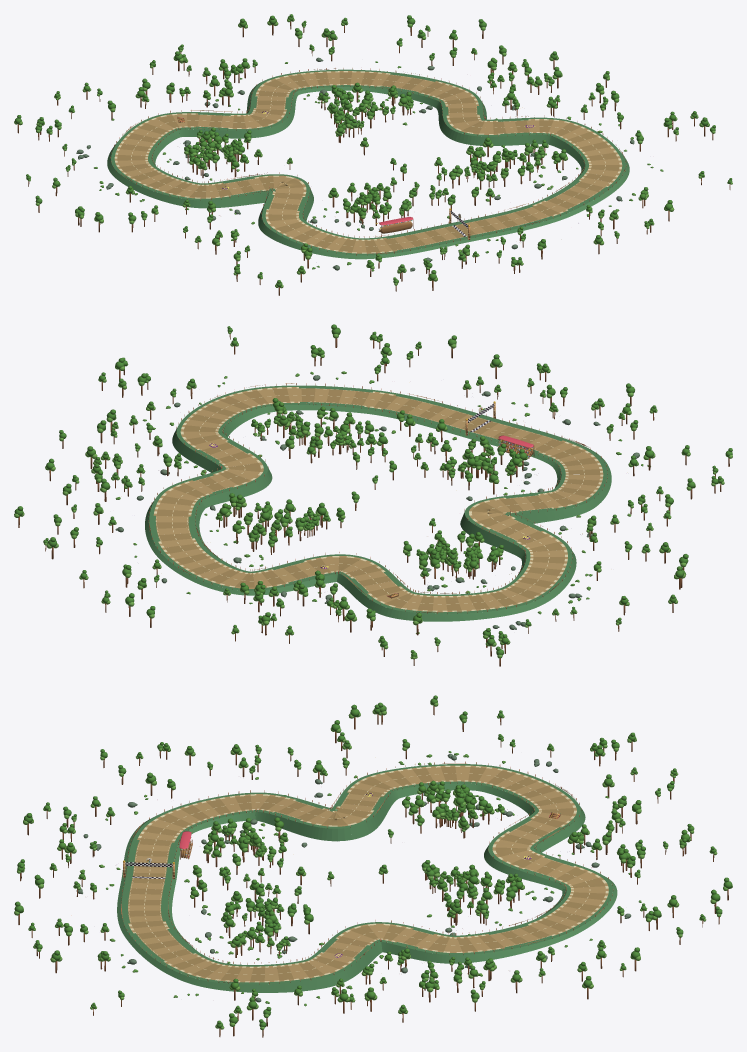
The model's file is carreras_bosque.glb.
The picture shows the model from 3 angles, top to bottom: view 1: azimuth 30°, elevation 25°; view 2: azimuth 150°, elevation 25°; view 3: azimuth 270°, elevation 25°; orthographic projection. The views are drawn at different scales.
Parts seen in each view (by area): view 1: bosque Tela | copa #4E8A3A 0 0, bosque Tela | copa #4E8A3A 0 -1, bosque Tela | copa #4E8A3A -1 0, bosque Tela | camino claro bosque -1 0, bosque Tela | camino bosque -1 0, bosque Tela | camino claro bosque 0 -1, bosque Tela | camino bosque 0 -1, bosque Tela | copa #4E8A3A -1 -1, bosque Tela | camino claro bosque 0 0, bosque Tela | camino bosque -1 -1, bosque Tela | camino claro bosque -1 -1, bosque Tela | camino bosque 0 0 (+18 smaller); view 2: bosque Tela | copa #4E8A3A 0 0, bosque Tela | copa #4E8A3A 0 -1, bosque Tela | camino claro bosque -1 0, bosque Tela | copa #4E8A3A -1 0, bosque Tela | camino bosque -1 0, bosque Tela | talud bosque -1 0, bosque Tela | copa #4E8A3A -1 -1, bosque Tela | camino claro bosque 0 -1, bosque Tela | camino bosque 0 -1, bosque Tela | camino claro bosque 0 0, bosque Tela | camino bosque 0 0, bosque Tela | camino claro bosque -1 -1 (+19 smaller); view 3: bosque Tela | copa #4E8A3A 0 0, bosque Tela | copa #4E8A3A 0 -1, bosque Tela | copa #4E8A3A -1 0, bosque Tela | camino claro bosque -1 0, bosque Tela | camino bosque -1 0, bosque Tela | copa #4E8A3A -1 -1, bosque Tela | camino claro bosque 0 -1, bosque Tela | camino bosque 0 -1, bosque Tela | camino claro bosque 0 0, bosque Tela | camino bosque 0 0, bosque Tela | talud bosque 0 0, bosque Tela | camino bosque -1 -1 (+18 smaller).
Boxes of the visible parts, x1,y1,x2,y2 form: bosque Tela | copa #4E8A3A 0 0: (239,14,609,146); bosque Tela | copa #4E8A3A 0 -1: (391,90,732,264); bosque Tela | copa #4E8A3A -1 0: (15,44,292,221); bosque Tela | camino claro bosque -1 0: (117,91,286,197); bosque Tela | camino bosque -1 0: (117,95,286,197); bosque Tela | camino claro bosque 0 -1: (455,120,619,236); bosque Tela | camino bosque 0 -1: (466,120,619,234); bosque Tela | copa #4E8A3A -1 -1: (128,177,517,287); bosque Tela | camino claro bosque 0 0: (259,72,503,133); bosque Tela | camino bosque -1 -1: (268,176,456,252); bosque Tela | camino claro bosque -1 -1: (268,176,464,252); bosque Tela | camino bosque 0 0: (260,72,493,133); bosque Tela | copa #4E8A3A 0 0: (14,420,359,615); bosque Tela | copa #4E8A3A 0 -1: (99,324,542,481); bosque Tela | camino claro bosque -1 0: (264,515,564,610); bosque Tela | copa #4E8A3A -1 0: (232,518,688,656); bosque Tela | camino bosque -1 0: (272,518,564,610); bosque Tela | talud bosque -1 0: (251,511,576,621); bosque Tela | copa #4E8A3A -1 -1: (421,363,732,551); bosque Tela | camino claro bosque 0 -1: (183,388,487,459); bosque Tela | camino bosque 0 -1: (183,388,478,459); bosque Tela | camino claro bosque 0 0: (156,452,273,587); bosque Tela | camino bosque 0 0: (155,456,271,587); bosque Tela | camino claro bosque -1 -1: (472,421,600,522); bosque Tela | copa #4E8A3A 0 0: (362,860,732,1012); bosque Tela | copa #4E8A3A 0 -1: (14,864,354,1028); bosque Tela | copa #4E8A3A -1 0: (350,695,716,865); bosque Tela | camino claro bosque -1 0: (337,767,584,881); bosque Tela | camino bosque -1 0: (340,767,574,878); bosque Tela | copa #4E8A3A -1 -1: (17,720,350,869); bosque Tela | camino claro bosque 0 -1: (128,878,365,981); bosque Tela | camino bosque 0 -1: (128,882,364,981); bosque Tela | camino claro bosque 0 0: (336,871,605,951); bosque Tela | camino bosque 0 0: (342,872,605,951); bosque Tela | talud bosque 0 0: (349,874,617,977); bosque Tela | camino bosque -1 -1: (133,795,363,873).
Size of what is drawn, in the model's own units: 351 by 12.02 by 327.
